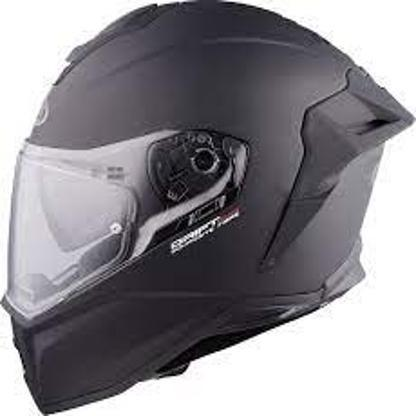not trash: (13, 1, 416, 410)
